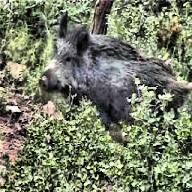boar: (39, 12, 192, 141)
